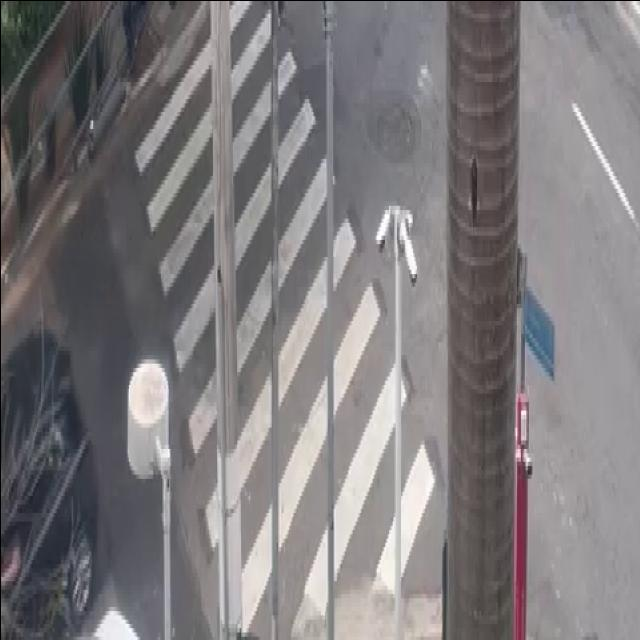car: (0, 324, 99, 640)
